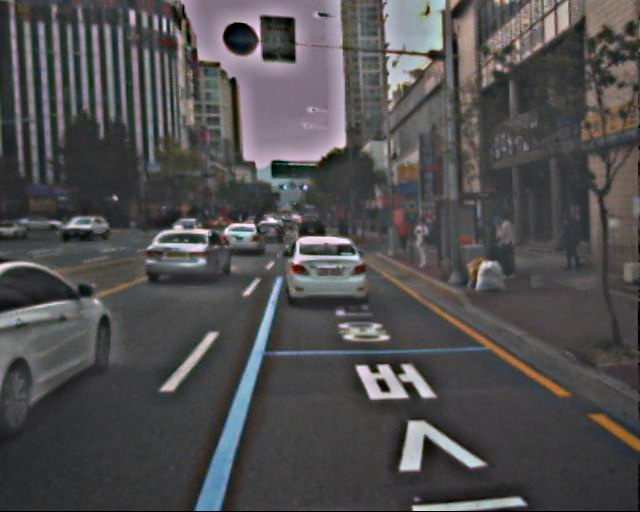person: (494, 210, 522, 279), (560, 210, 586, 273), (410, 214, 433, 271)
